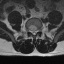CCS_stenosis: (33, 29, 35, 36)
LFS_normal: (37, 27, 39, 33)
LLS_normal: (35, 29, 37, 35)
RFS_normal: (28, 27, 31, 34)
RLS_normal: (31, 29, 33, 35)
